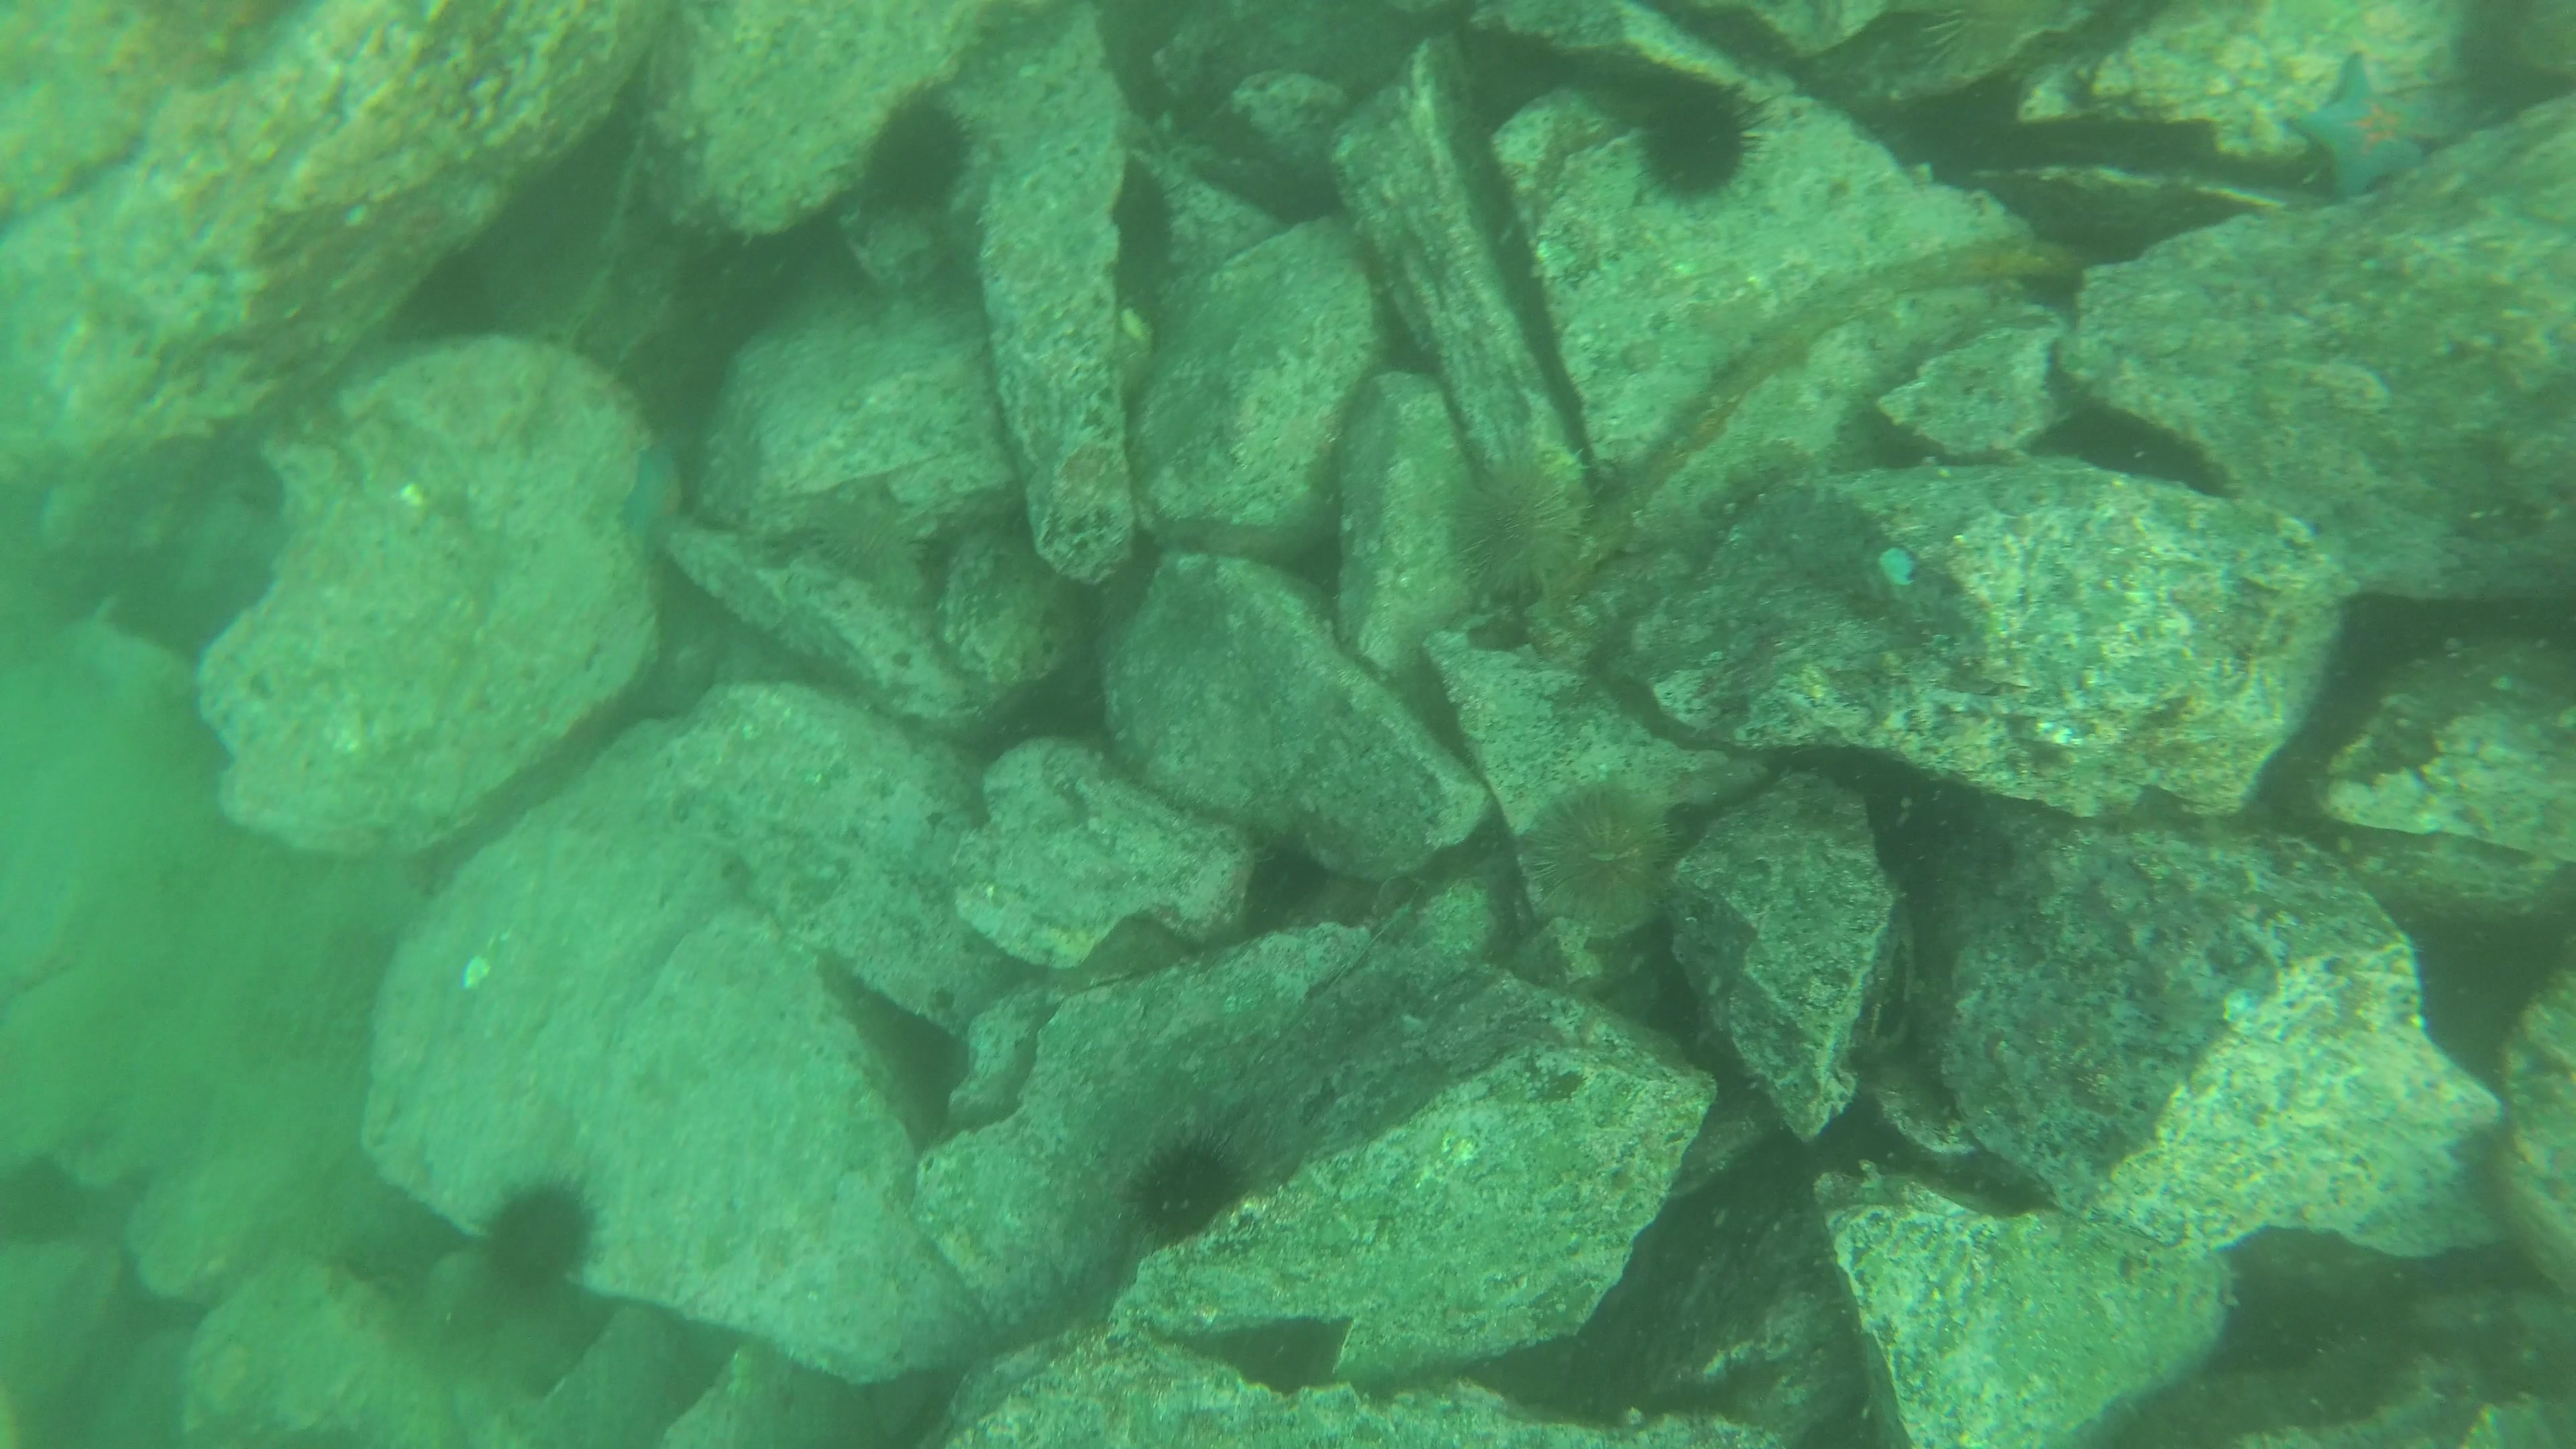echinus: (1532, 784, 1674, 941), (1460, 460, 1580, 591), (863, 104, 975, 218), (1642, 87, 1750, 200), (483, 1184, 593, 1292), (1138, 1148, 1240, 1240)
starfish: (2289, 57, 2450, 196), (625, 439, 688, 571)
